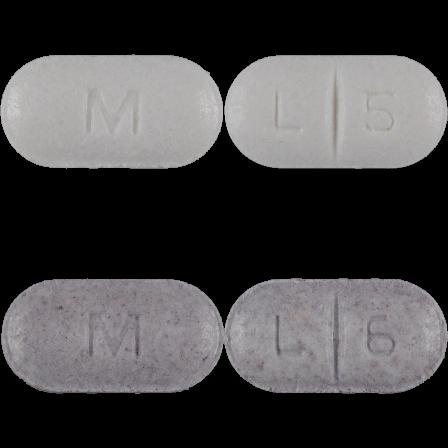0378-1803: (0, 0, 224, 224)
